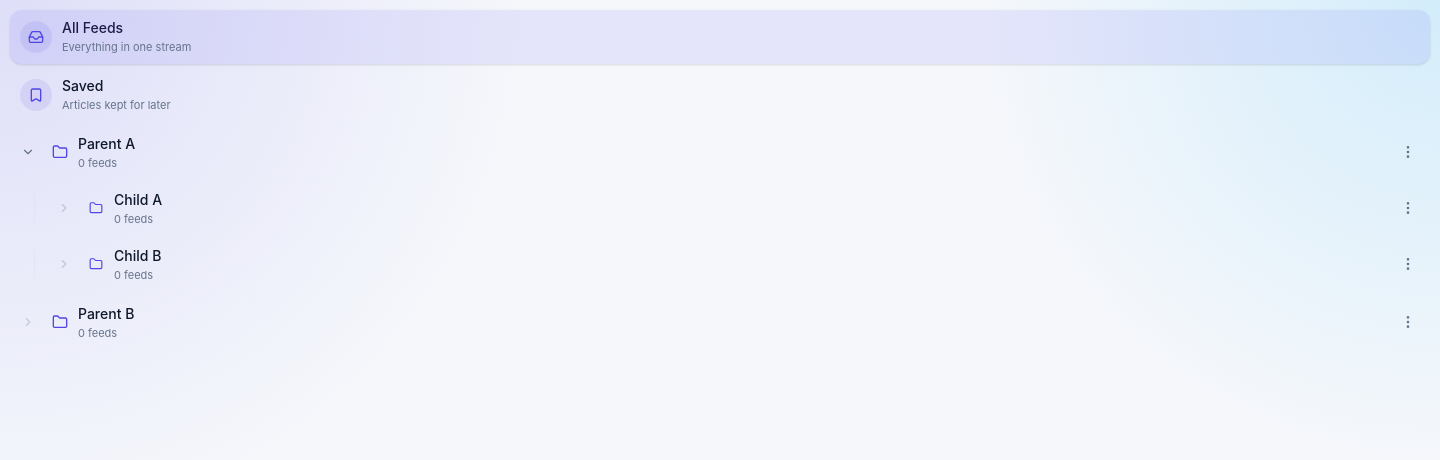
SidebarTree category move controls › disables sibling boundaries and never offers a cross-parent move
This screenshot has width=1440, height=460.
Click the button named "Actions for Parent A": (1408, 152) [1390,130,1426,174]
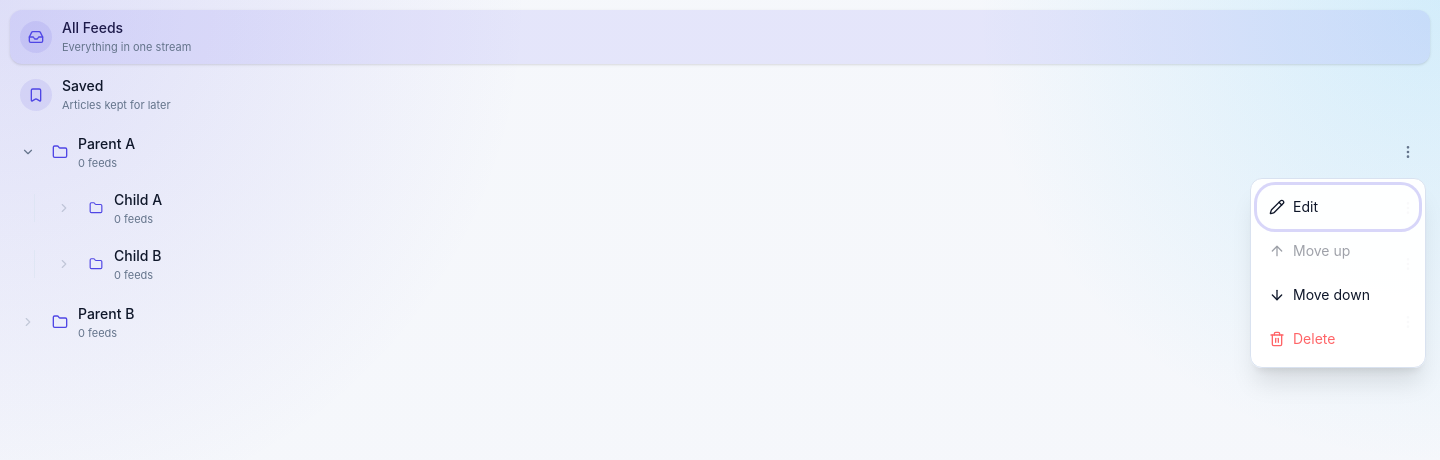
Check: the menu item "Move up" is disabled, box [1257,229,1419,273]
Press Escape in the menu, box [1250,178,1426,368]
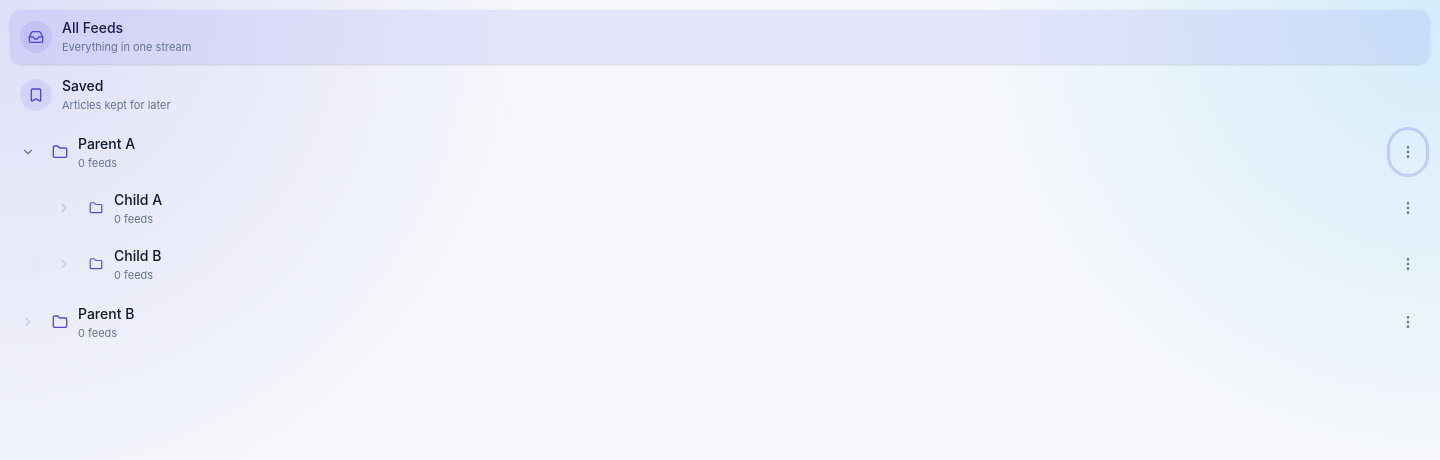
Click the button named "Actions for Child A": (1408, 208) [1390,186,1426,230]
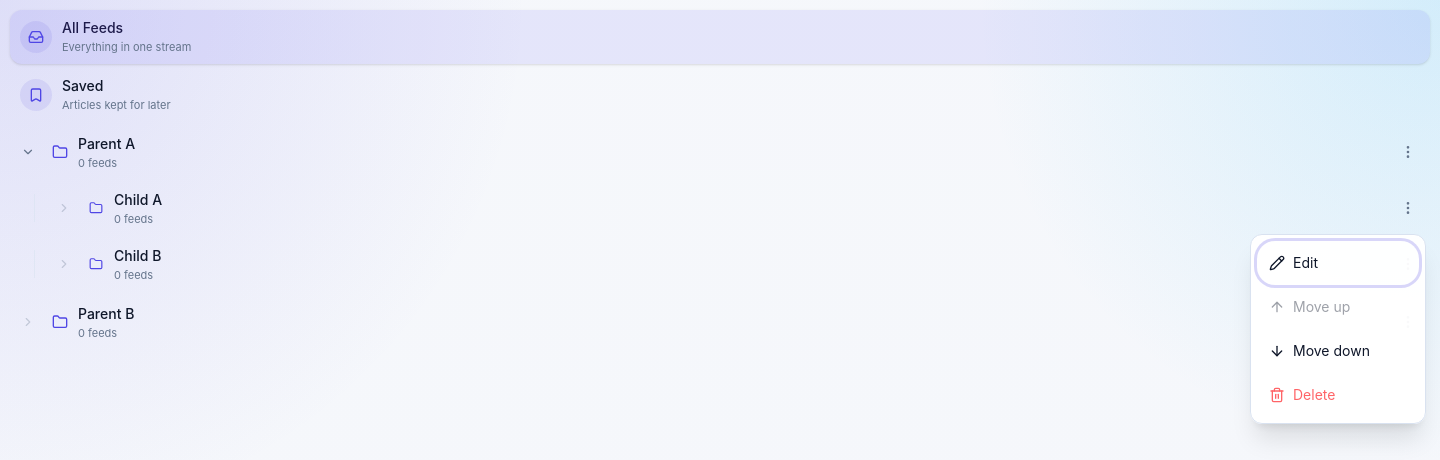
Check: the menu item "Move up" is disabled, box [1257,285,1419,329]
Check: the menu item "Move down" is enabled, box [1257,329,1419,373]
